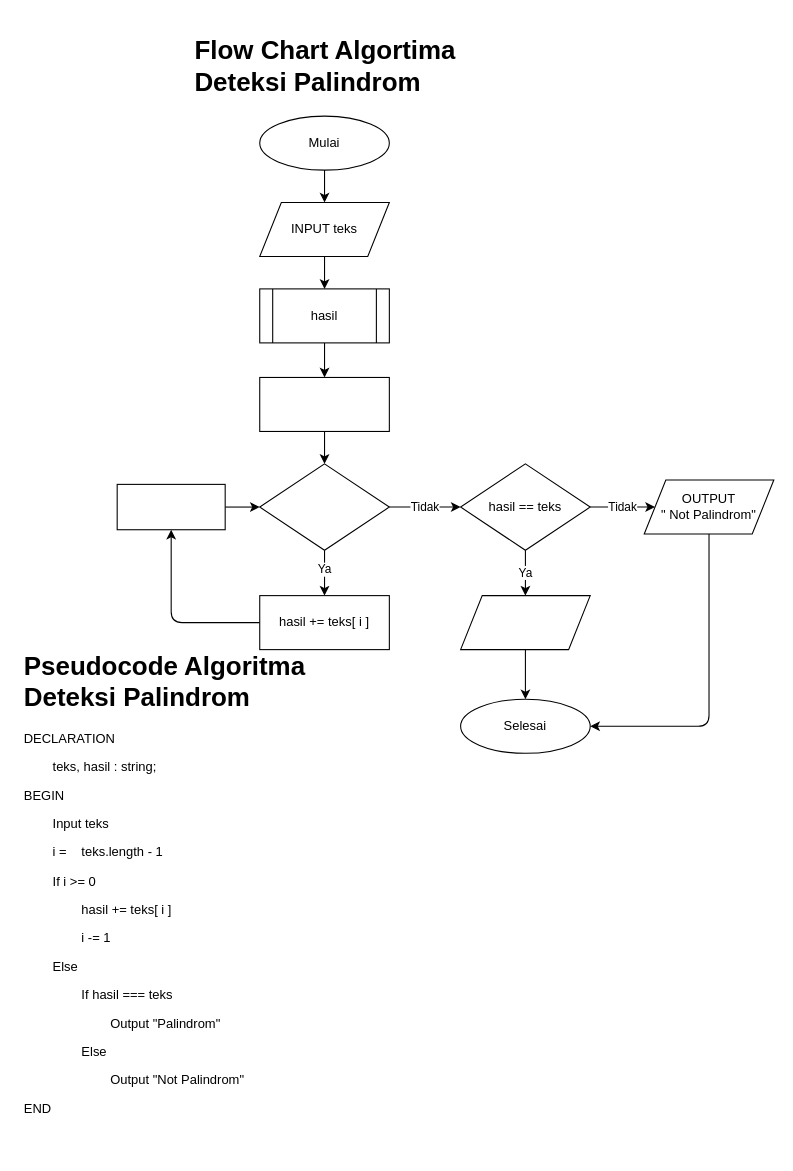
Some shapes in this 793 by 1171 pixel diagram are drawn without their labels. The centre of each missing label's shape, as x and y in pixels:
i -= 1: (x=170, y=506)
i = teks.length - 1: (x=324, y=403)
i >= 0: (x=324, y=506)
OUTPUT "Palindrom": (x=525, y=622)
